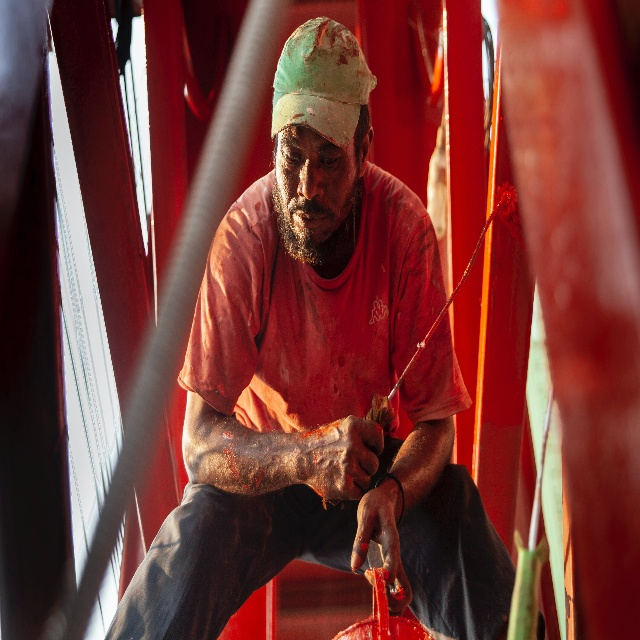Sin_guantes: (350, 486, 412, 617), (308, 414, 384, 503)
